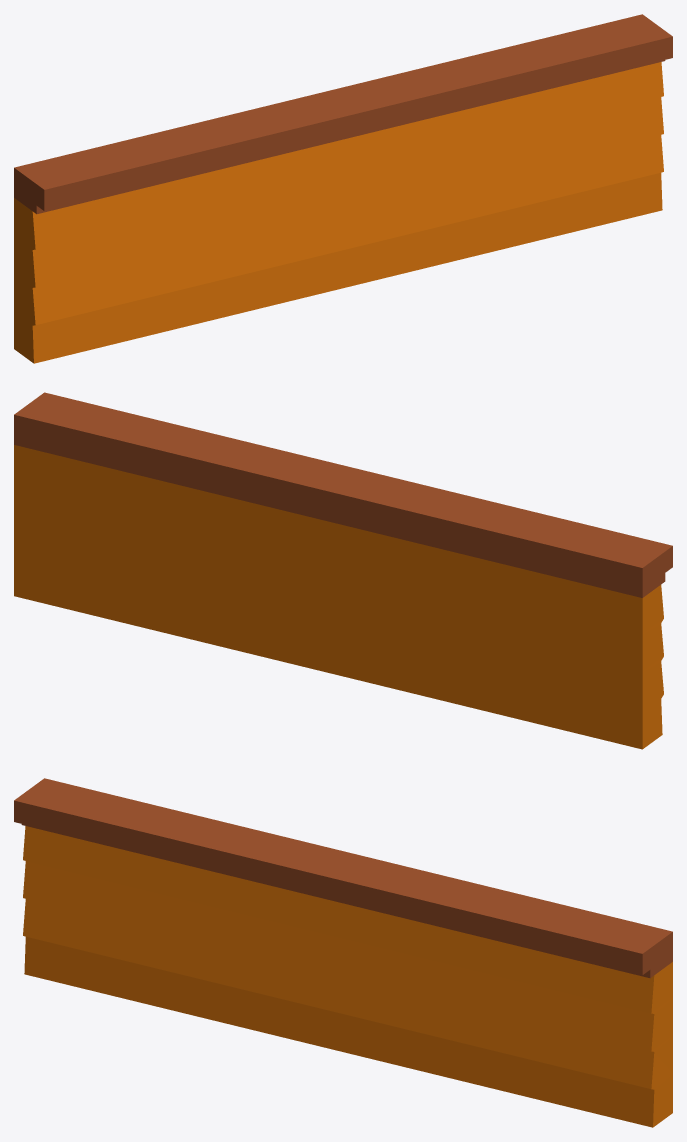
The model's file is ROOF_A2.fbx.
3 views of the same model, one above another, from view 1: azimuth 30°, elevation 25°; view 2: azimuth 150°, elevation 25°; view 3: azimuth 330°, elevation 25° (orthographic).
Visible parts, largest first — view 1: ROOF_A2; view 2: ROOF_A2; view 3: ROOF_A2.
Part boxes in pixels (bbox=[...]): ROOF_A2: bbox=[14, 14, 672, 363]; ROOF_A2: bbox=[14, 392, 672, 749]; ROOF_A2: bbox=[14, 778, 672, 1127].
Size of the model in its own units: 694 by 191 by 58.25.
